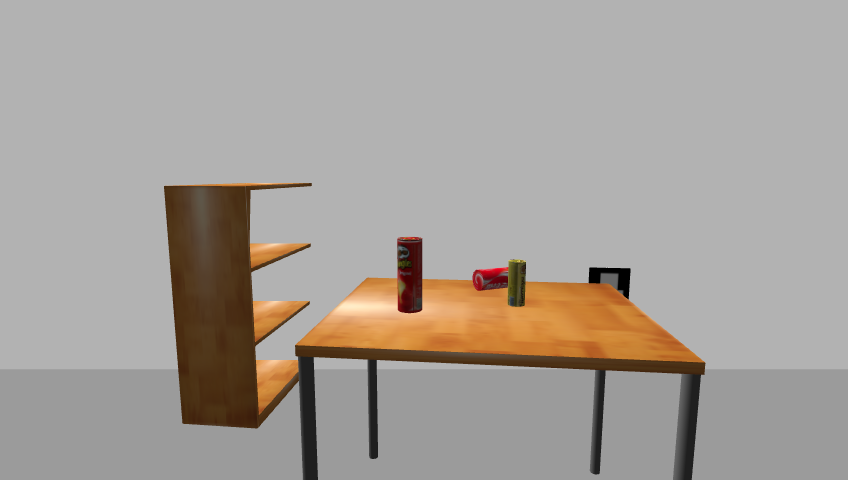aruco marker: (585, 266, 635, 303)
biscuits pack: (508, 260, 527, 308)
bookshelf: (160, 180, 319, 431)
coke can: (471, 267, 511, 293)
dinner table: (290, 276, 714, 479)
pringles can: (395, 236, 425, 315)
